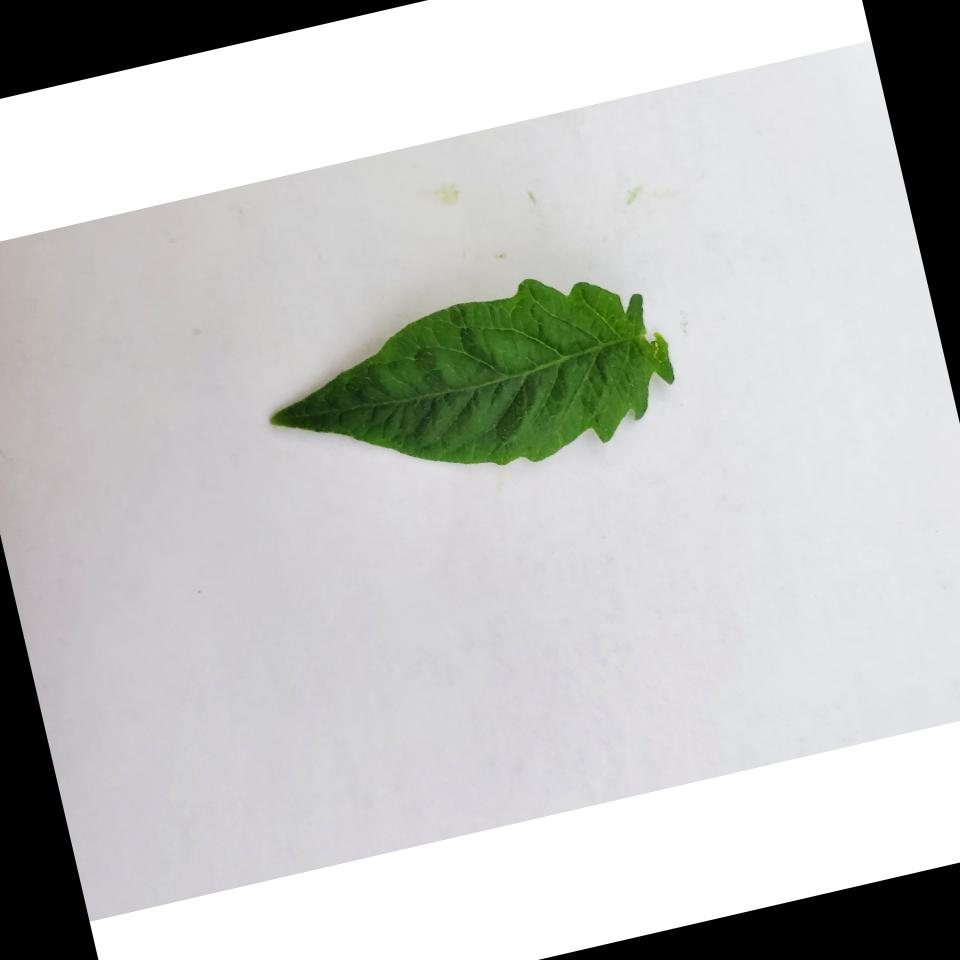tomato_leaves: (255, 246, 688, 517)
